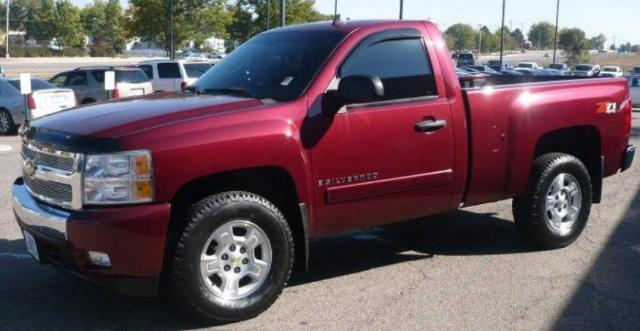pickup-truck: (10, 19, 636, 321)
